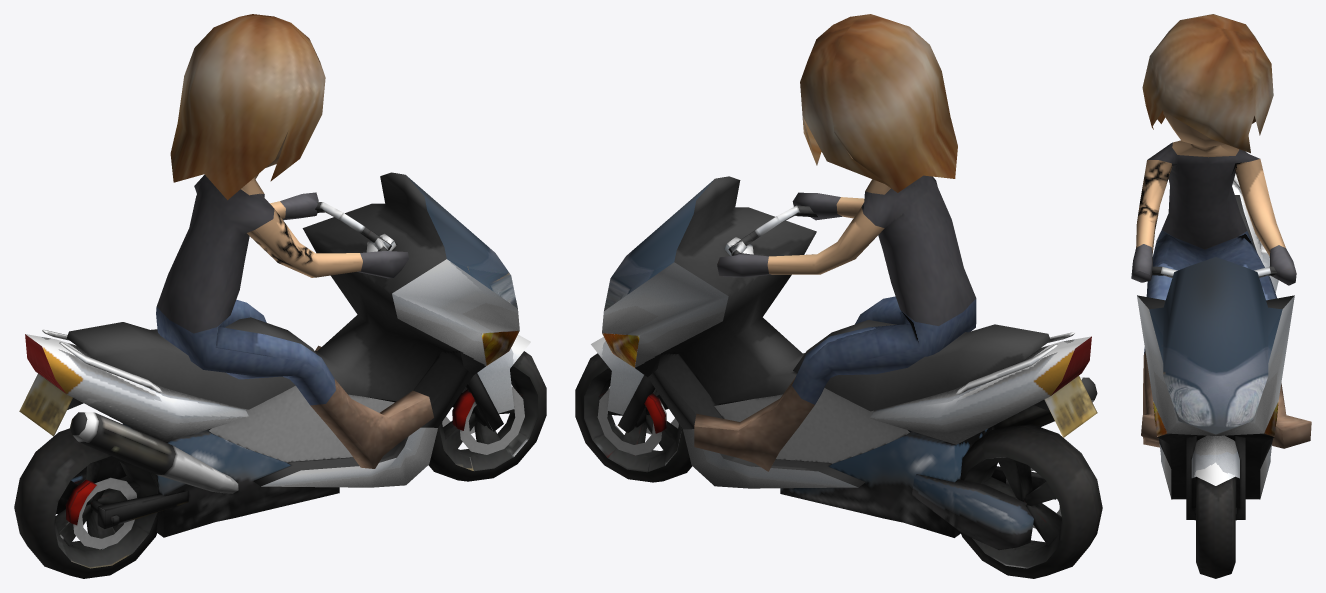
Rendered from tmax.fbx.
3 views of the same model, side by side, from view 1: azimuth 30°, elevation 25°; view 2: azimuth 150°, elevation 25°; view 3: azimuth 270°, elevation 25° (orthographic). The views are drawn at different scales.
Visible parts, largest first — view 1: tmax-body, tmax-rider, tmax-skin, tmax-reartyre, tmax-front-tyre; view 2: tmax-body, tmax-rider, tmax-skin, tmax-reartyre, tmax-front-tyre; view 3: tmax-rider, tmax-body, tmax-skin, tmax-front-tyre.
Boxes of the visible parts, box(x1,y1,x2,y2) form: tmax-body: box(19, 172, 524, 549); tmax-rider: box(156, 14, 433, 468); tmax-skin: box(25, 259, 530, 487); tmax-reartyre: box(14, 428, 158, 578); tmax-front-tyre: box(428, 351, 546, 481); tmax-body: box(597, 176, 1097, 550); tmax-rider: box(694, 14, 976, 471); tmax-skin: box(591, 262, 1091, 488); tmax-reartyre: box(960, 424, 1102, 578); tmax-front-tyre: box(575, 353, 692, 482); tmax-rider: box(1131, 14, 1311, 448); tmax-body: box(1137, 195, 1294, 520); tmax-skin: box(1137, 173, 1294, 498); tmax-front-tyre: box(1196, 476, 1235, 578).
Bounding box in the file's own units: 2.09 × 1.97 × 0.7073.
